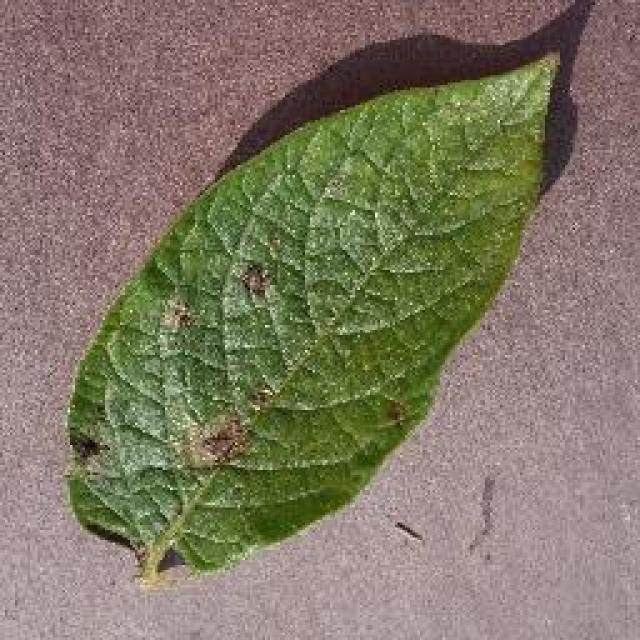Potato: (62, 48, 562, 582)
